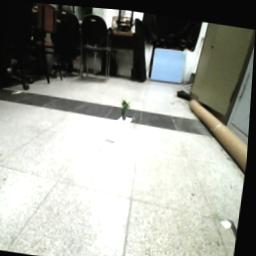herb: (121, 97, 132, 121)
